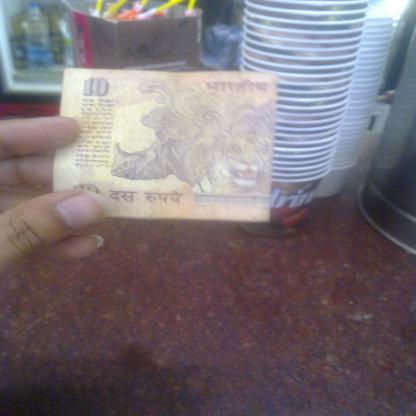Old10Back: (54, 66, 278, 222)
